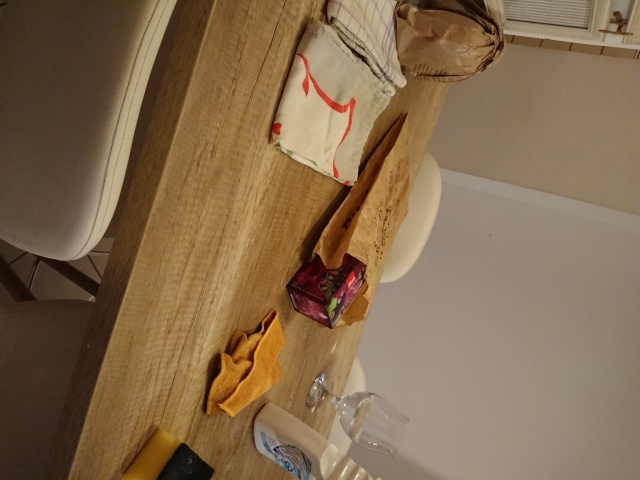Franck Black Currant Tea 60g: (284, 237, 379, 331)
